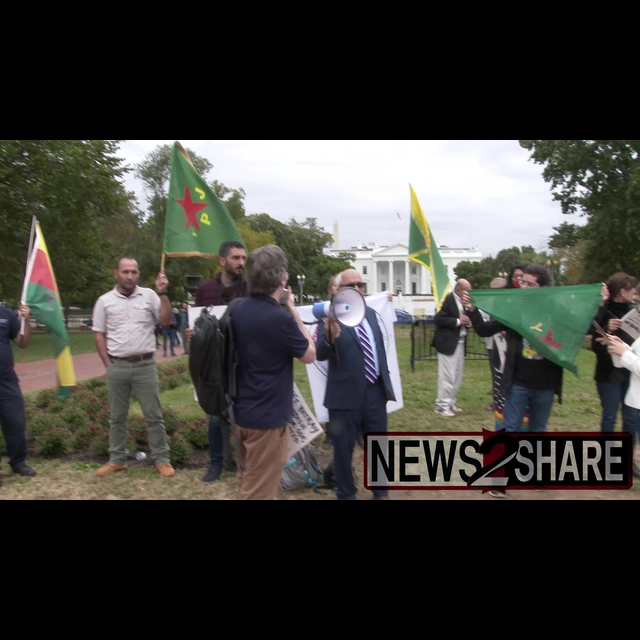YPJ: (172, 177, 219, 241)
